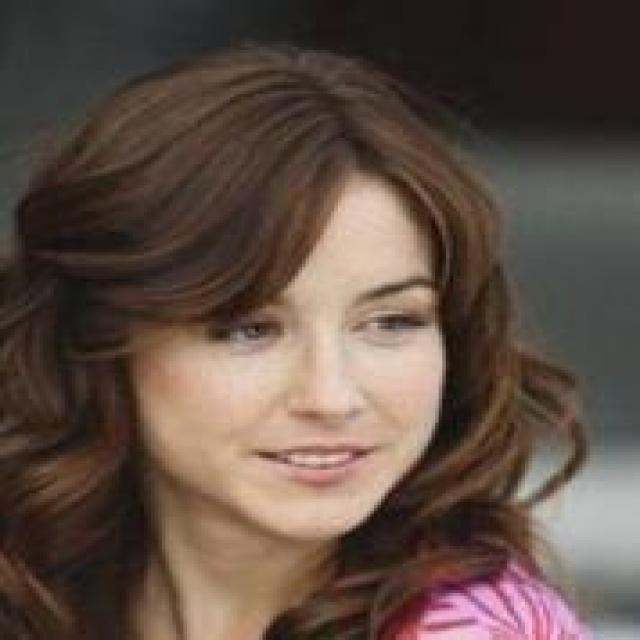nomask: (94, 82, 532, 576)
